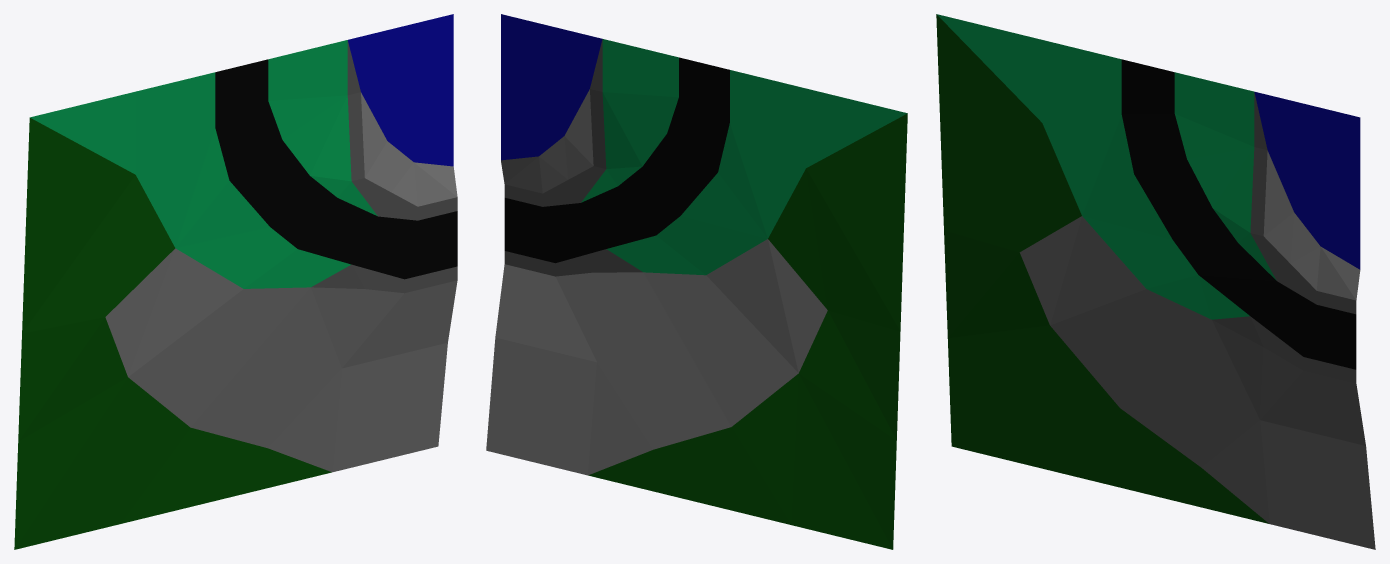
The model's file is tiles1_27.obj.
3 renders of one model, left to right at view 1: azimuth 30°, elevation 25°; view 2: azimuth 150°, elevation 25°; view 3: azimuth 330°, elevation 25°, orthographic. The views are drawn at different scales.
Parts seen in each view (by area): view 1: tiles1_27; view 2: tiles1_27; view 3: tiles1_27.
Boxes of the visible parts, left/top/right/bottom form: tiles1_27: left=14, top=14, right=457, bottom=549; tiles1_27: left=486, top=14, right=907, bottom=549; tiles1_27: left=936, top=14, right=1375, bottom=549.
Bounding box in the file's own units: 4.1 × 4.1 × 0.321.
